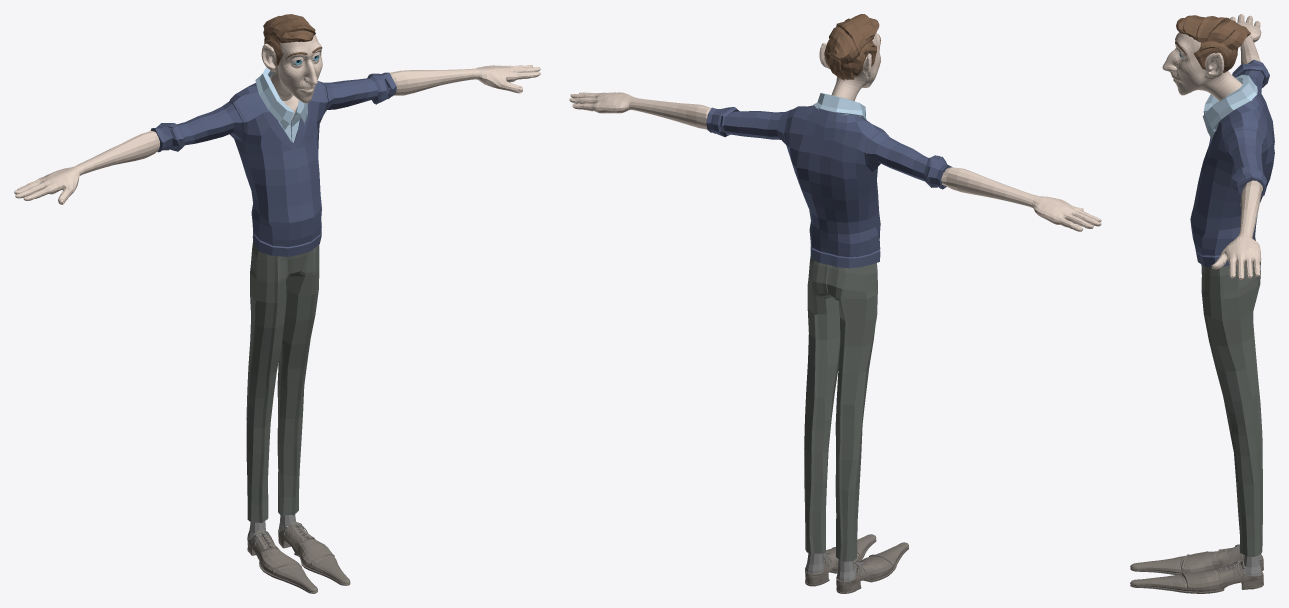
Rendered from middleAged.fbx.
3 renders of one model, left to right at view 1: azimuth 30°, elevation 25°; view 2: azimuth 150°, elevation 25°; view 3: azimuth 270°, elevation 25°, orthographic. The views are drawn at different scales.
Visible parts, largest first — view 1: frank_shirt, frank_pants, rt_arm, frank_face, lt_arm, lt_shoe, rt_shoe, frank_collar, hair_new; view 2: frank_pants, frank_shirt, rt_arm, lt_arm, hair_new, rt_shoe, frank_face, lt_shoe, frank_collar; view 3: frank_pants, frank_shirt, frank_face, lt_arm, hair_new, lt_shoe, rt_shoe, frank_collar, rt_arm, lt_sock.
Boxes of the visible parts, x1,y1,x2,y2 form: frank_shirt: (150,72,396,256); frank_pants: (246,240,319,522); rt_arm: (14,131,159,204); frank_face: (261,35,322,118); lt_arm: (390,65,540,95); lt_shoe: (278,521,350,585); rt_shoe: (247,530,317,593); frank_collar: (255,67,307,142); hair_new: (263,14,315,65); frank_pants: (804,256,877,561); frank_shirt: (706,105,952,268); rt_arm: (941,167,1101,231); lt_arm: (569,92,710,129); hair_new: (824,14,879,80); rt_shoe: (836,542,908,593); frank_face: (819,33,880,101); lt_shoe: (805,534,876,586); frank_collar: (813,93,866,120); frank_pants: (1201,261,1262,556); frank_shirt: (1190,59,1274,267); frank_face: (1162,32,1242,100); lt_arm: (1211,180,1262,279); hair_new: (1176,15,1250,72); lt_shoe: (1130,561,1263,593); rt_shoe: (1130,546,1263,574); frank_collar: (1202,74,1257,140); rt_arm: (1230,14,1261,64); lt_sock: (1244,555,1261,579).
Size of the model in its own units: 189 by 187 by 43.83.
